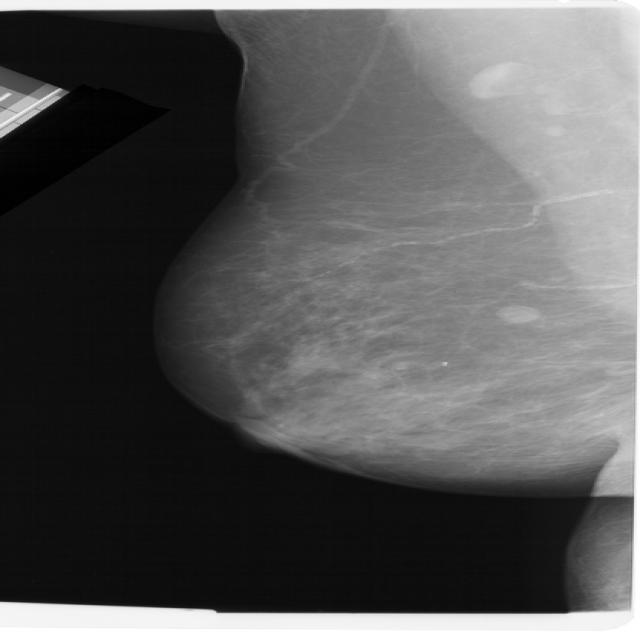tumour: (494, 304, 539, 324)
